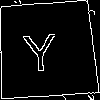Y: (22, 24, 58, 73)
